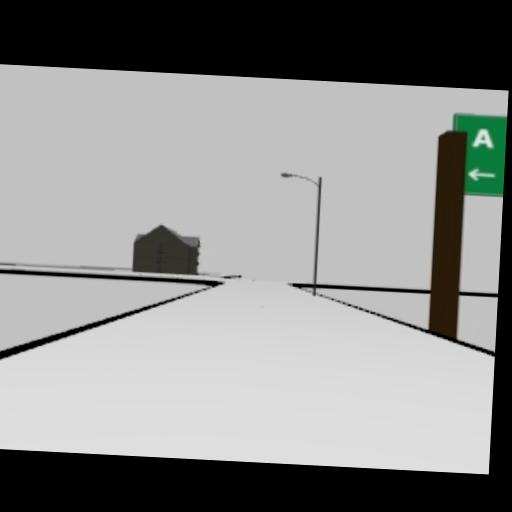A: (473, 127, 495, 150)
Left: (466, 167, 497, 182)
